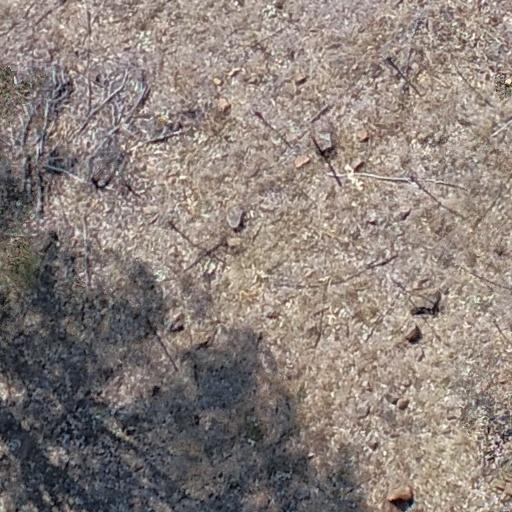stone: (410, 289, 442, 314), (224, 204, 246, 233), (387, 487, 414, 506), (314, 130, 336, 152), (404, 322, 420, 344), (294, 153, 312, 169), (357, 401, 371, 417), (355, 128, 370, 142), (218, 96, 230, 112), (396, 206, 412, 218), (351, 158, 363, 168), (397, 397, 409, 406), (214, 77, 225, 86)
